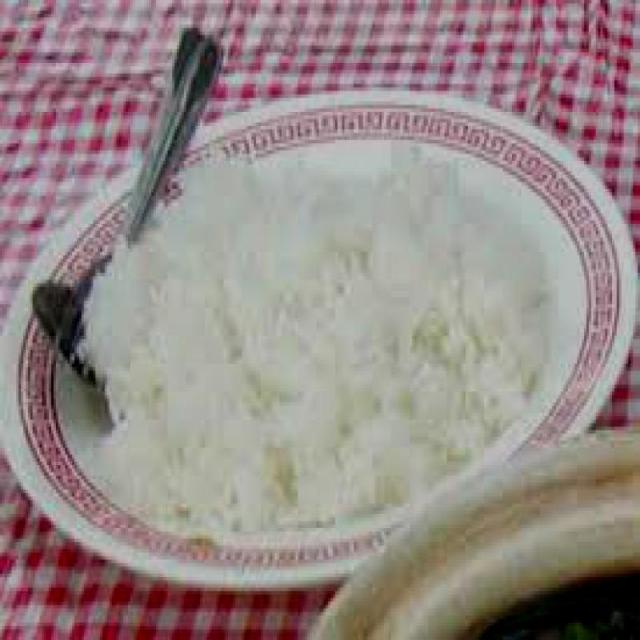rice: (86, 156, 544, 526)
